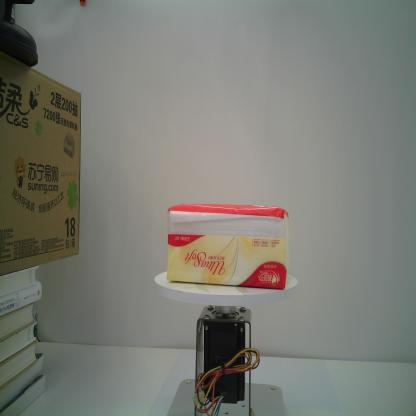Tissue: (166, 202, 290, 291)
